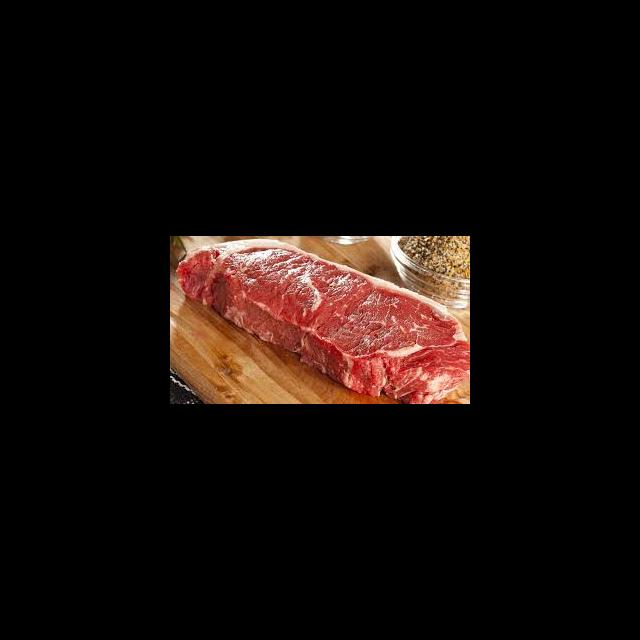beef: (179, 240, 470, 404)
